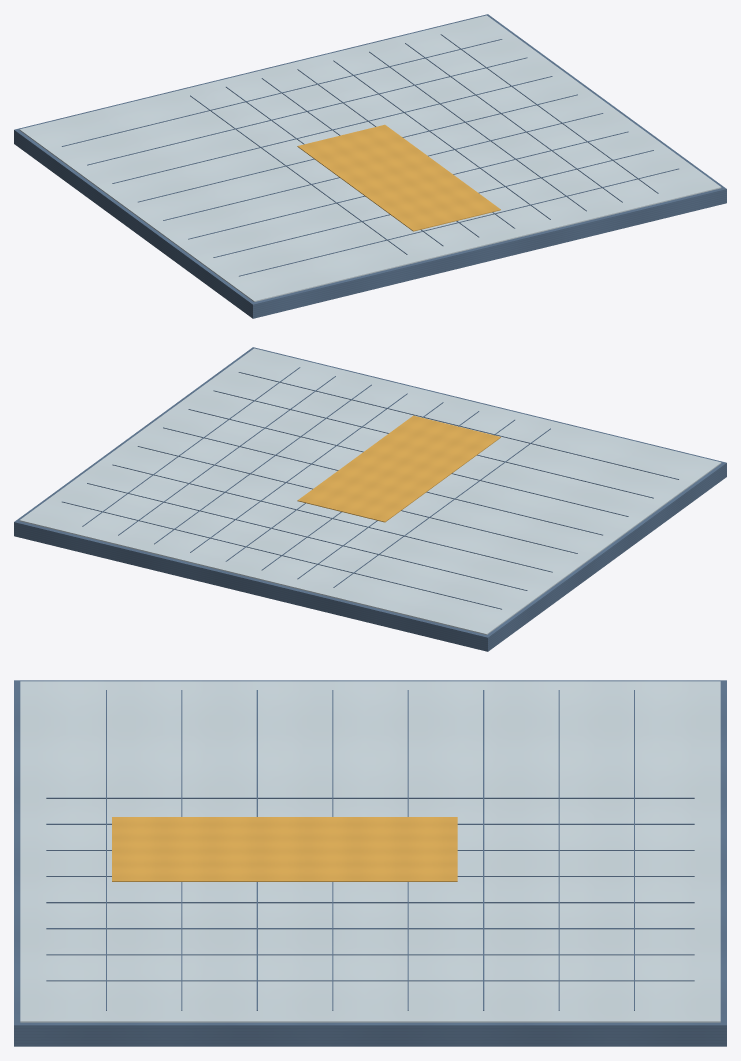
Rendered from atlas100-s054-a07.lod1.glb.
3 renders of one model, top to bottom at view 1: azimuth 30°, elevation 25°; view 2: azimuth 150°, elevation 25°; view 3: azimuth 270°, elevation 25°, orthographic. The views are drawn at different scales.
Parts seen in each view (by area): view 1: atlas100-s054-a07:part-001, atlas100-s054-a07:part-000, atlas100-s054-a07:part-021, atlas100-s054-a07:part-020, atlas100-s054-a07:part-013, atlas100-s054-a07:part-014, atlas100-s054-a07:part-015, atlas100-s054-a07:part-019, atlas100-s054-a07:part-018, atlas100-s054-a07:part-017, atlas100-s054-a07:part-016; view 2: atlas100-s054-a07:part-001, atlas100-s054-a07:part-000, atlas100-s054-a07:part-021, atlas100-s054-a07:part-015, atlas100-s054-a07:part-013, atlas100-s054-a07:part-014, atlas100-s054-a07:part-020, atlas100-s054-a07:part-016, atlas100-s054-a07:part-018, atlas100-s054-a07:part-017, atlas100-s054-a07:part-019; view 3: atlas100-s054-a07:part-001, atlas100-s054-a07:part-000, atlas100-s054-a07:part-021, atlas100-s054-a07:part-005, atlas100-s054-a07:part-009, atlas100-s054-a07:part-010, atlas100-s054-a07:part-011, atlas100-s054-a07:part-012, atlas100-s054-a07:part-014, atlas100-s054-a07:part-015, atlas100-s054-a07:part-006.
Part boxes in pixels (x1,y1,x2,y2): atlas100-s054-a07:part-001: (19, 15, 721, 301); atlas100-s054-a07:part-000: (14, 14, 726, 318); atlas100-s054-a07:part-021: (297, 124, 500, 231); atlas100-s054-a07:part-020: (239, 168, 678, 276); atlas100-s054-a07:part-013: (62, 39, 502, 146); atlas100-s054-a07:part-014: (87, 57, 527, 165); atlas100-s054-a07:part-015: (112, 76, 552, 183); atlas100-s054-a07:part-019: (213, 150, 653, 257); atlas100-s054-a07:part-018: (188, 131, 628, 239); atlas100-s054-a07:part-017: (163, 113, 603, 220); atlas100-s054-a07:part-016: (138, 94, 577, 202); atlas100-s054-a07:part-001: (19, 348, 721, 634); atlas100-s054-a07:part-000: (14, 347, 726, 651); atlas100-s054-a07:part-021: (297, 415, 500, 522); atlas100-s054-a07:part-015: (112, 464, 552, 572); atlas100-s054-a07:part-013: (62, 501, 501, 609); atlas100-s054-a07:part-014: (87, 483, 527, 590); atlas100-s054-a07:part-020: (238, 372, 678, 479); atlas100-s054-a07:part-016: (137, 446, 577, 553); atlas100-s054-a07:part-018: (188, 409, 628, 516); atlas100-s054-a07:part-017: (163, 427, 602, 535); atlas100-s054-a07:part-019: (213, 390, 653, 498); atlas100-s054-a07:part-001: (20, 681, 720, 1022); atlas100-s054-a07:part-000: (14, 680, 726, 1046); atlas100-s054-a07:part-021: (112, 817, 457, 881); atlas100-s054-a07:part-005: (46, 797, 694, 798); atlas100-s054-a07:part-009: (46, 902, 694, 903); atlas100-s054-a07:part-010: (46, 928, 694, 929); atlas100-s054-a07:part-011: (46, 954, 694, 955); atlas100-s054-a07:part-012: (46, 980, 694, 981); atlas100-s054-a07:part-014: (558, 690, 559, 1010); atlas100-s054-a07:part-015: (483, 690, 484, 1010); atlas100-s054-a07:part-006: (46, 823, 694, 824).
Bounding box in the file's own units: 11.9 × 0.404 × 10.4.
Materials: 3 (3 with a texture image).
